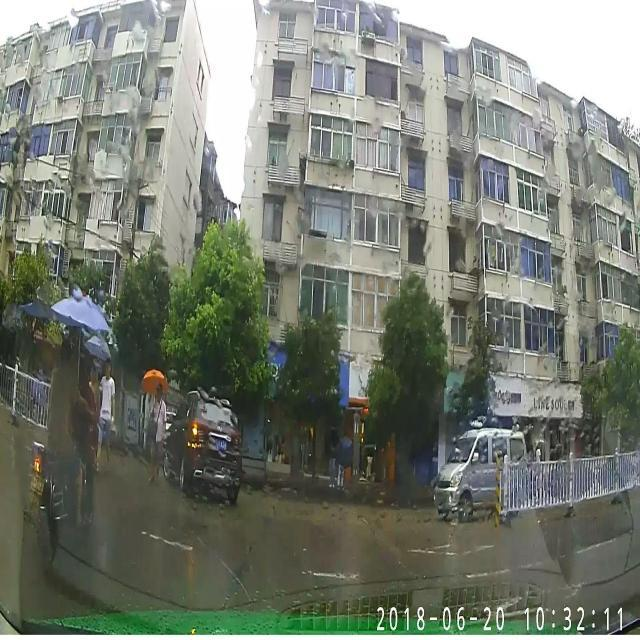car: (432, 428, 528, 520), (164, 392, 242, 500)
